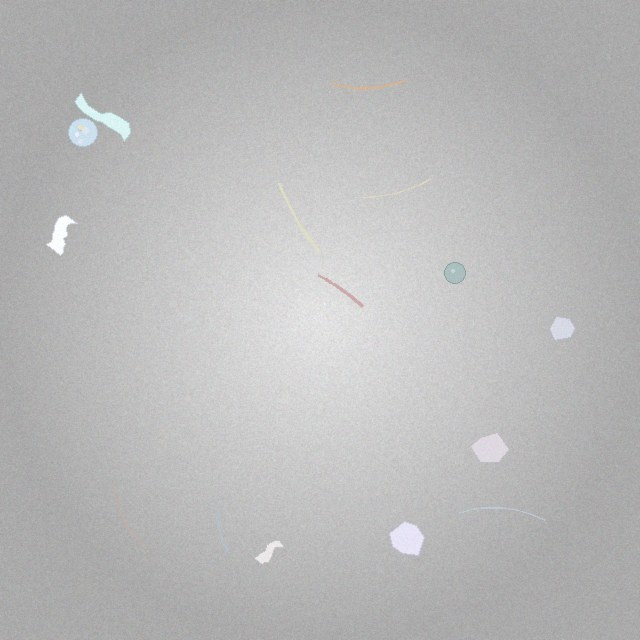fiber: (276, 180, 323, 256), (110, 481, 148, 550), (314, 272, 366, 310), (360, 177, 433, 201), (457, 504, 547, 522), (329, 77, 408, 92), (215, 507, 230, 554)
film: (74, 92, 130, 141), (47, 215, 78, 256), (254, 540, 284, 565)
foam: (69, 118, 97, 146)
fragment: (471, 432, 510, 463), (390, 521, 424, 556), (549, 316, 575, 341)
pellet: (445, 262, 466, 283)
